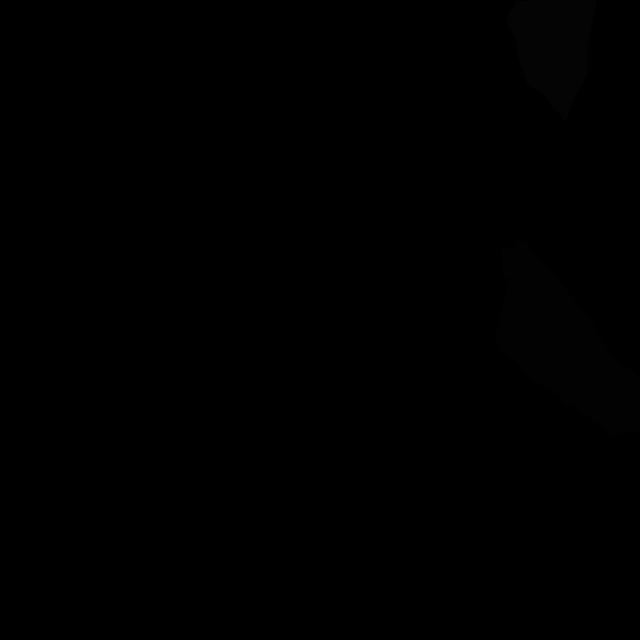cardboard: (495, 240, 640, 436)
